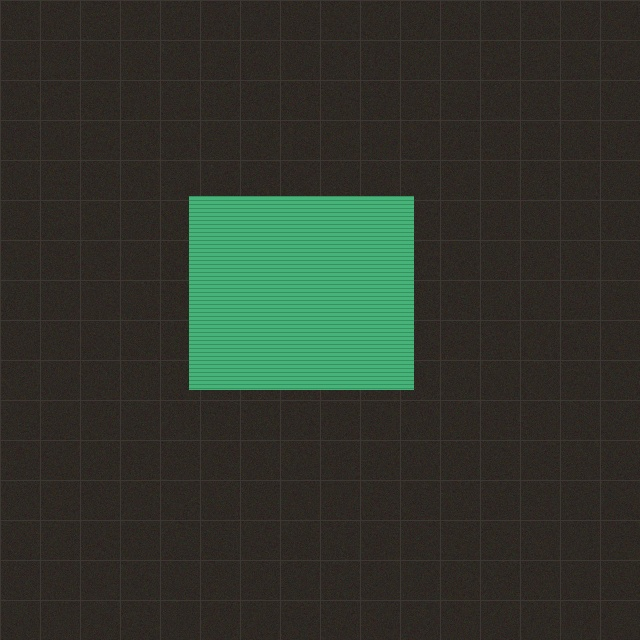normal: (189, 196, 413, 389)
